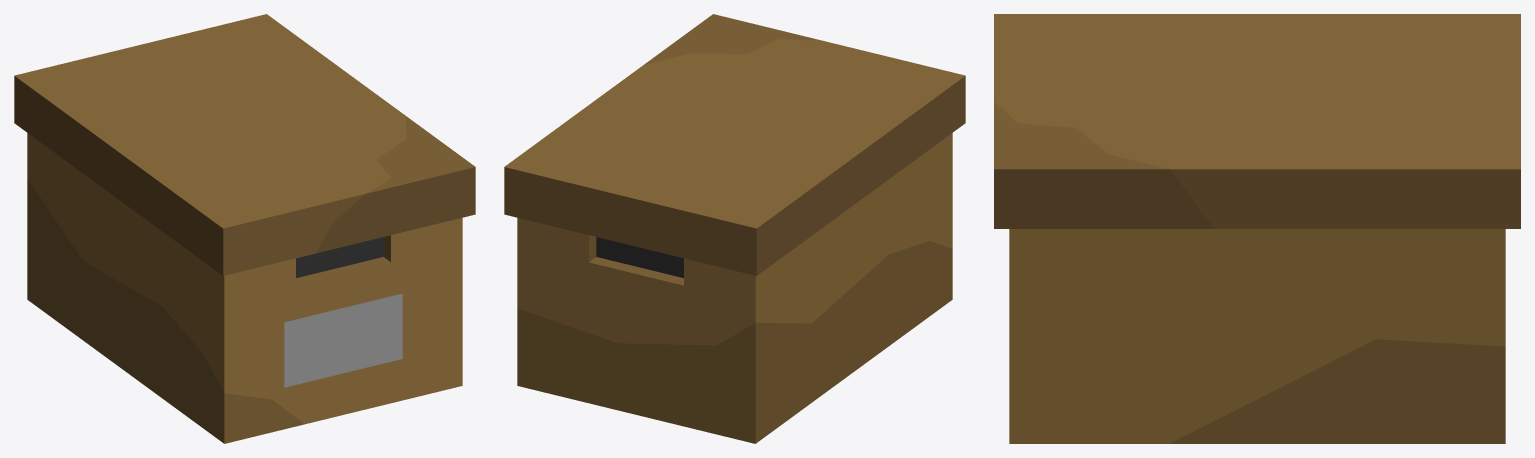
File: AI_Prop_FileBox.fbx
3 renders of one model, left to right at view 1: azimuth 30°, elevation 25°; view 2: azimuth 150°, elevation 25°; view 3: azimuth 270°, elevation 25°, orthographic. The views are drawn at different scales.
Parts seen in each view (by area): view 1: AI_Prop_FileBox; view 2: AI_Prop_FileBox; view 3: AI_Prop_FileBox.
Part boxes in pixels (x1=…): AI_Prop_FileBox: x1=14, y1=14, x2=475, y2=443; AI_Prop_FileBox: x1=504, y1=14, x2=965, y2=443; AI_Prop_FileBox: x1=994, y1=14, x2=1520, y2=443.
Bounding box in the file's own units: 0.6635 × 0.5562 × 0.9511.
